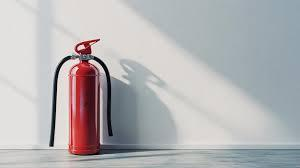floor-kept: (41, 31, 130, 167)
